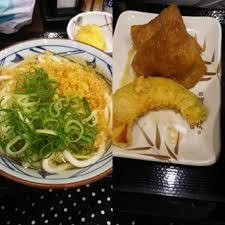pumpkin: (114, 79, 204, 142)
